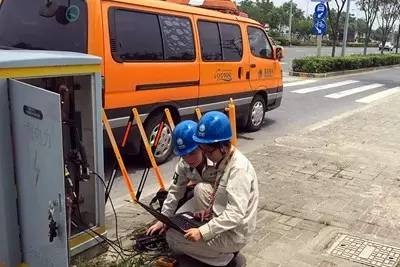blue: (192, 110, 233, 161), (168, 119, 203, 166)
